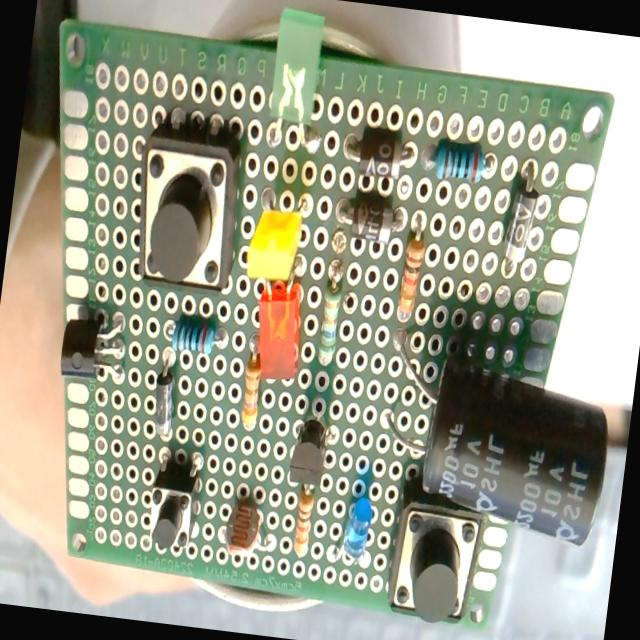Electrolytic capacitor: (363, 319, 624, 552)
cds: (214, 478, 281, 569)
diode: (491, 139, 551, 293), (325, 182, 409, 250), (338, 121, 422, 188), (145, 348, 182, 443)
led: (258, 0, 338, 163), (243, 170, 312, 293), (246, 256, 308, 392), (326, 480, 378, 584)
resistor: (416, 130, 506, 196), (306, 256, 354, 371), (388, 209, 432, 328), (156, 306, 234, 357), (236, 336, 267, 436), (286, 484, 321, 570)
switch: (122, 103, 254, 301), (380, 469, 496, 631), (140, 432, 214, 556)
transistor: (52, 288, 136, 392), (282, 394, 344, 494)
